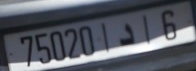0: (79, 25, 95, 57), (51, 31, 66, 62)
2: (65, 28, 78, 57)
5: (35, 33, 52, 64)
6: (159, 8, 179, 42)
7: (19, 36, 34, 69)
d: (114, 21, 140, 50)
